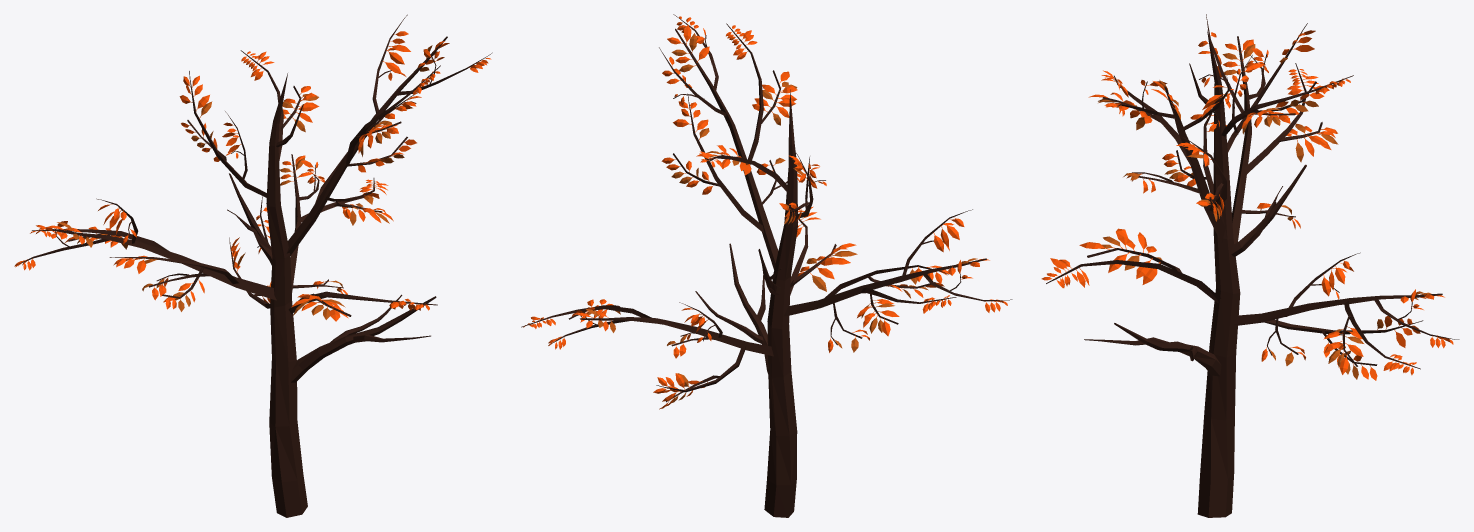
Rendered from FallTree.obj.
3 renders of one model, left to right at view 1: azimuth 30°, elevation 25°; view 2: azimuth 150°, elevation 25°; view 3: azimuth 270°, elevation 25°, orthographic. The views are drawn at different scales.
Parts seen in each view (by area): view 1: Node-Mesh, Node-Mesh_2, Node-Mesh_1; view 2: Node-Mesh, Node-Mesh_2, Node-Mesh_1; view 3: Node-Mesh, Node-Mesh_2, Node-Mesh_1.
Boxes of the visible parts, x1,y1,x2,y2 form: Node-Mesh: [16, 14, 492, 517]; Node-Mesh_2: [14, 31, 491, 321]; Node-Mesh_1: [57, 45, 437, 319]; Node-Mesh: [521, 14, 1012, 517]; Node-Mesh_2: [523, 16, 1007, 409]; Node-Mesh_1: [580, 33, 977, 402]; Node-Mesh: [1046, 14, 1459, 517]; Node-Mesh_2: [1041, 30, 1453, 380]; Node-Mesh_1: [1098, 44, 1431, 379].
Size of the model in its own units: 5.85 by 5.91 by 4.44.
